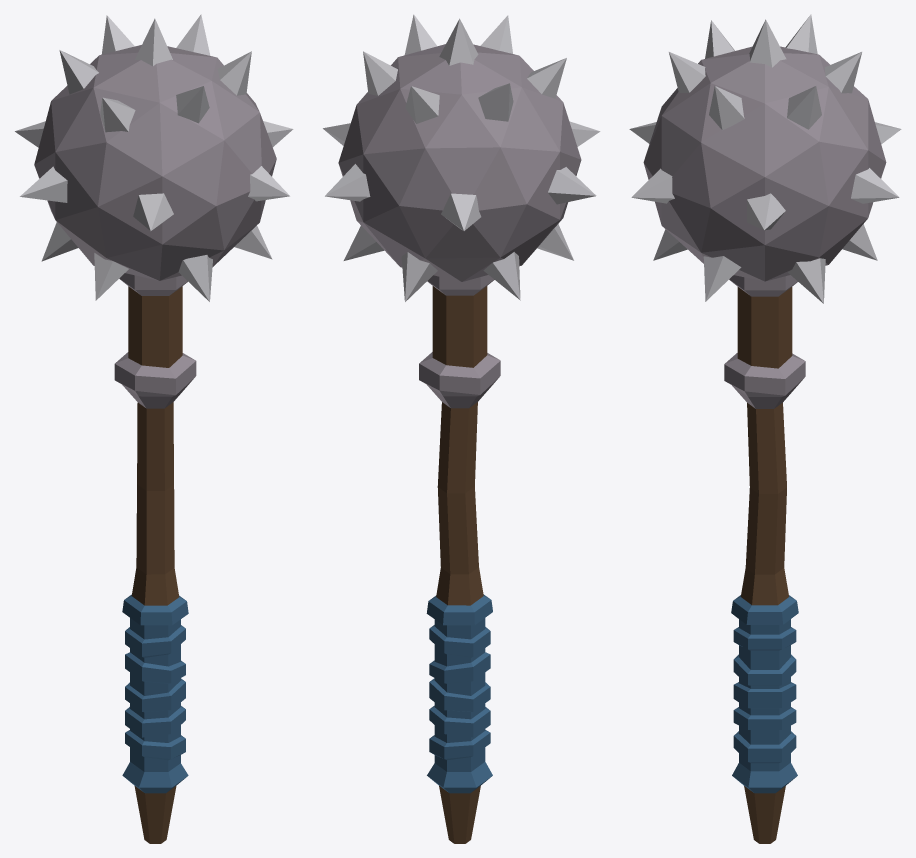
The model's file is Knots.fbx.
The picture shows the model from 3 angles, left to right: view 1: azimuth 30°, elevation 25°; view 2: azimuth 150°, elevation 25°; view 3: azimuth 270°, elevation 25°; orthographic projection.
Parts seen in each view (by area): view 1: Cone; view 2: Cone; view 3: Cone.
Boxes of the visible parts, x1,y1,x2,y2 form: Cone: (15,14,293,843); Cone: (323,14,600,843); Cone: (629,14,901,843).
Bounding box in the file's own units: 28.78 × 82.42 × 24.82.
